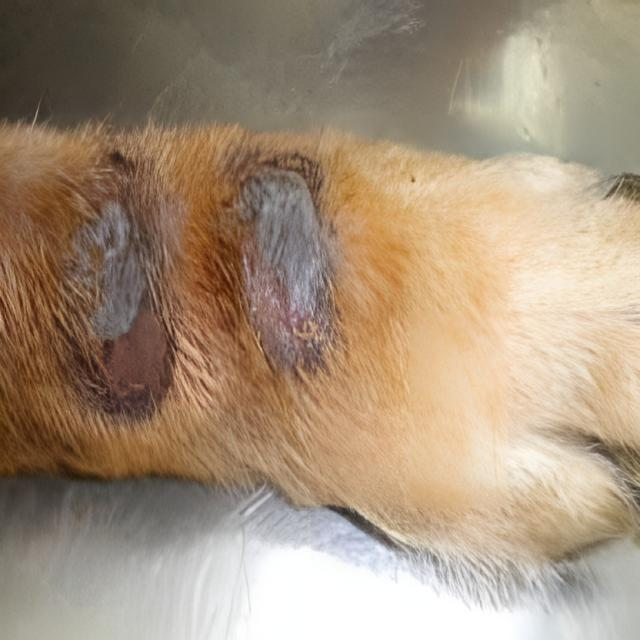di ung bo chet: (0, 128, 443, 454)
